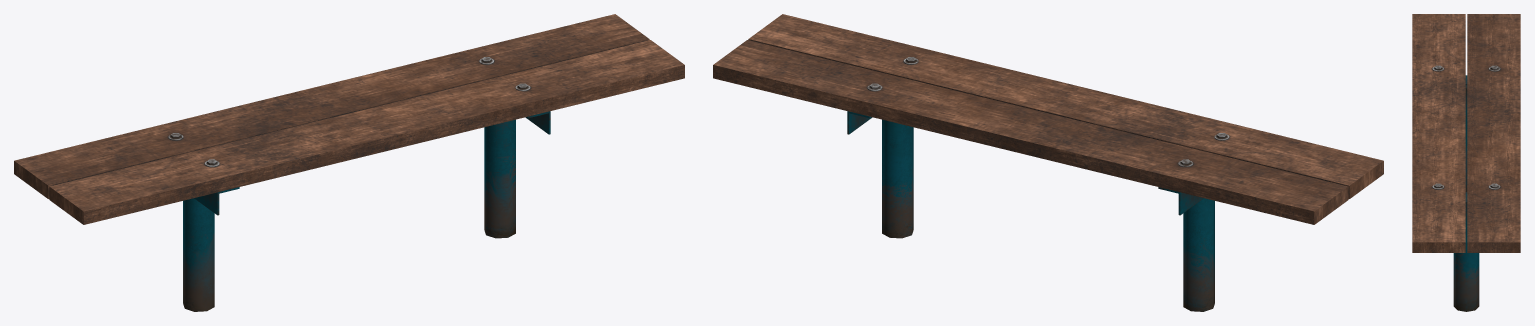
File: bench_1_ussr_game_ready.glb
3 views of the same model, side by side, from view 1: azimuth 30°, elevation 25°; view 2: azimuth 150°, elevation 25°; view 3: azimuth 270°, elevation 25° (orthographic). The views are drawn at different scales.
Parts seen in each view (by area): view 1: Wood boards.001, Pillars, Corners; view 2: Wood boards.001, Pillars, Corners; view 3: Wood boards.001, Pillars, Bolts, Washer, Corners.
Part boxes in pixels (bbox=[...]): Wood boards.001: bbox=[14, 14, 684, 224]; Pillars: bbox=[183, 119, 515, 311]; Corners: bbox=[194, 111, 550, 215]; Wood boards.001: bbox=[713, 14, 1383, 224]; Pillars: bbox=[882, 119, 1214, 311]; Corners: bbox=[847, 111, 1203, 215]; Wood boards.001: bbox=[1412, 14, 1520, 252]; Pillars: bbox=[1453, 85, 1479, 311]; Bolts: bbox=[1434, 65, 1498, 187]; Washer: bbox=[1432, 67, 1500, 189]; Corners: bbox=[1465, 75, 1467, 219].
Bounding box in the file's own units: 2 × 0.5038 × 0.4004.
2 materials, 2 textured.
